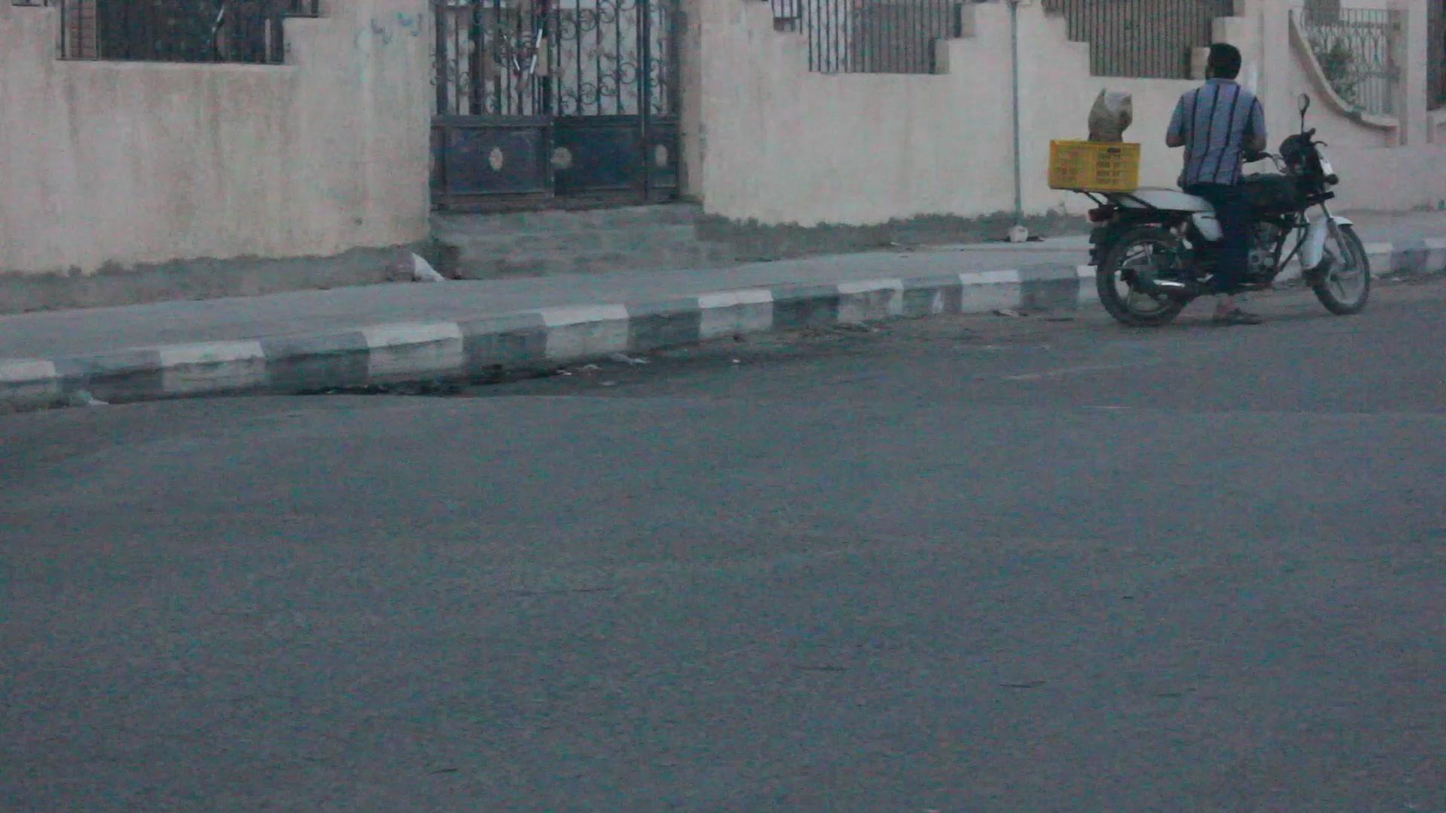Bump: (0, 370, 1442, 556)
